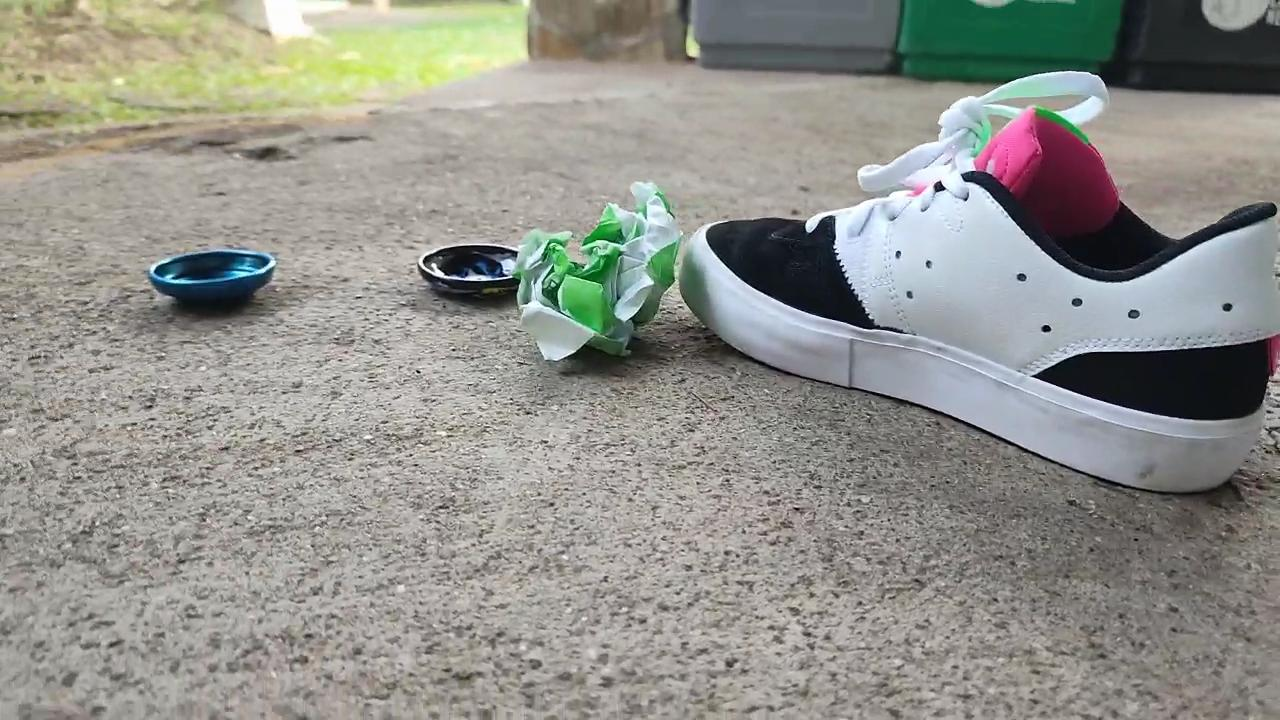Paper: (506, 157, 689, 375)
